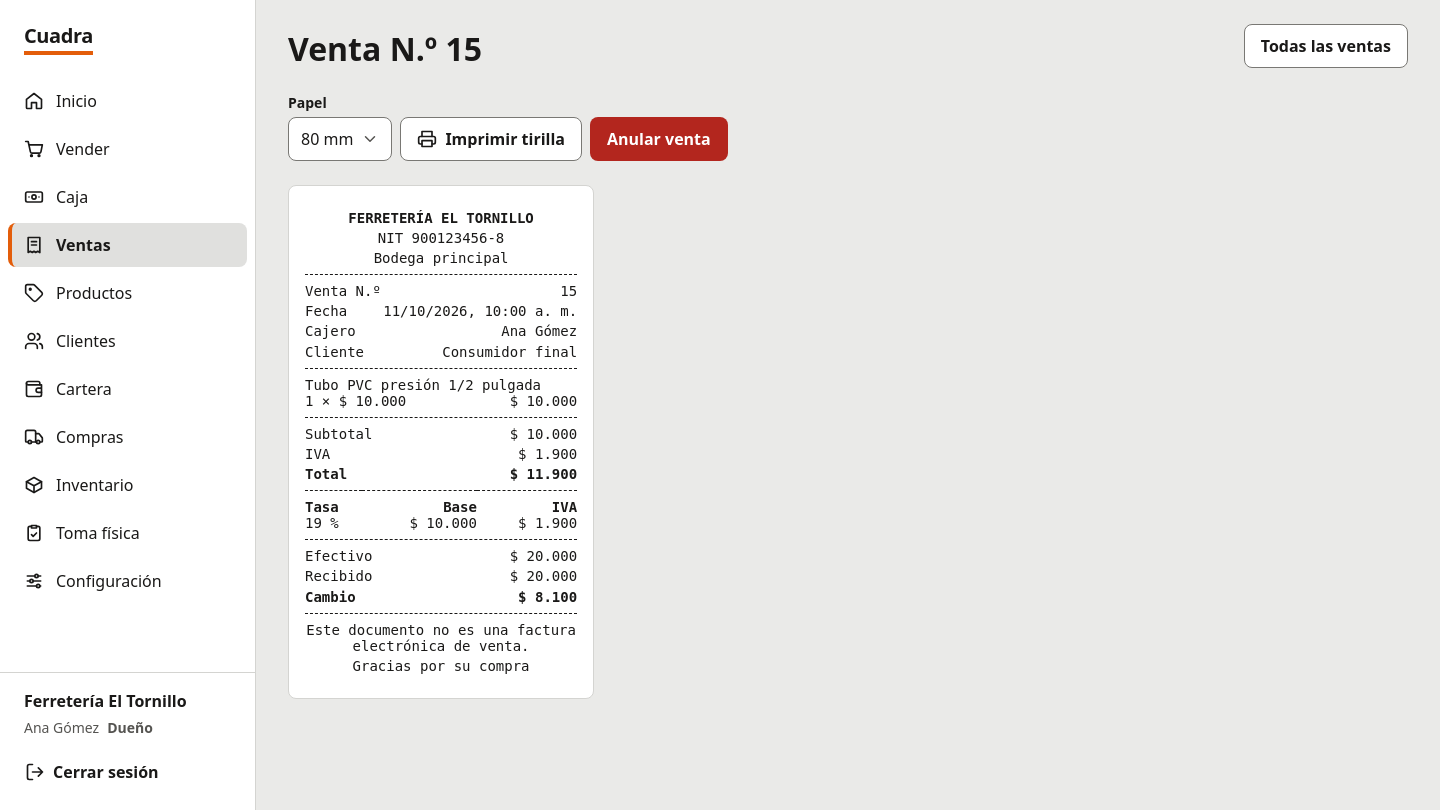
Scenario: SaleDetailPage: anular › con la caja abierta avisa que devuelva el efectivo
Click the button "Anular venta".
click(659, 139)  # box [590,117,728,161]
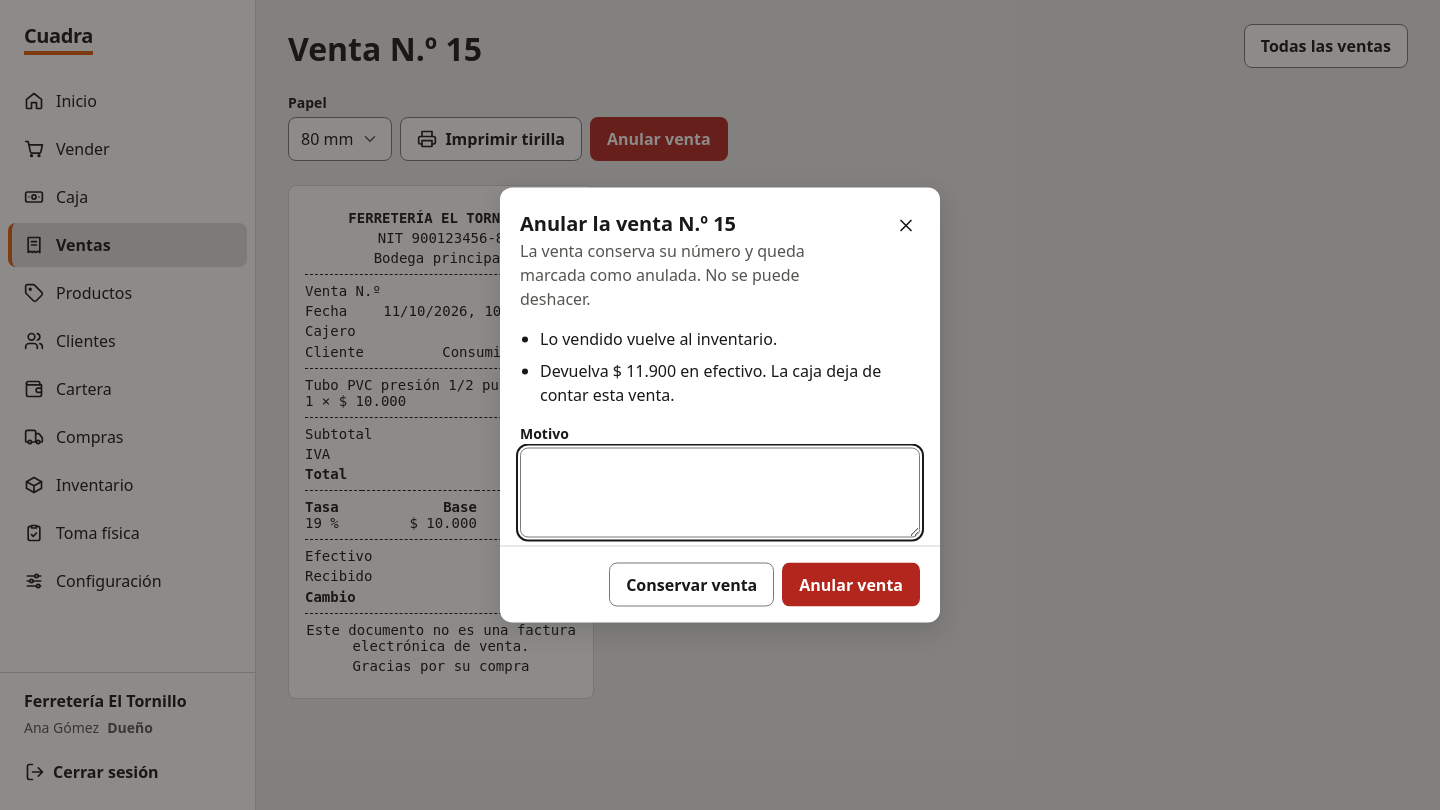
Check: the list item "La caja deja de contar esta venta" is shown, box [540,360,881,406]
